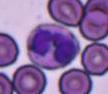N: (26, 24, 81, 70)
